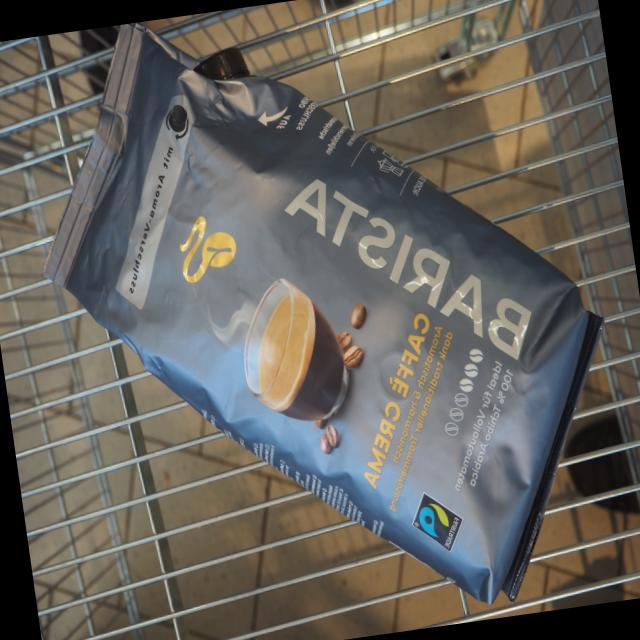Barista CC: (12, 16, 611, 620)
